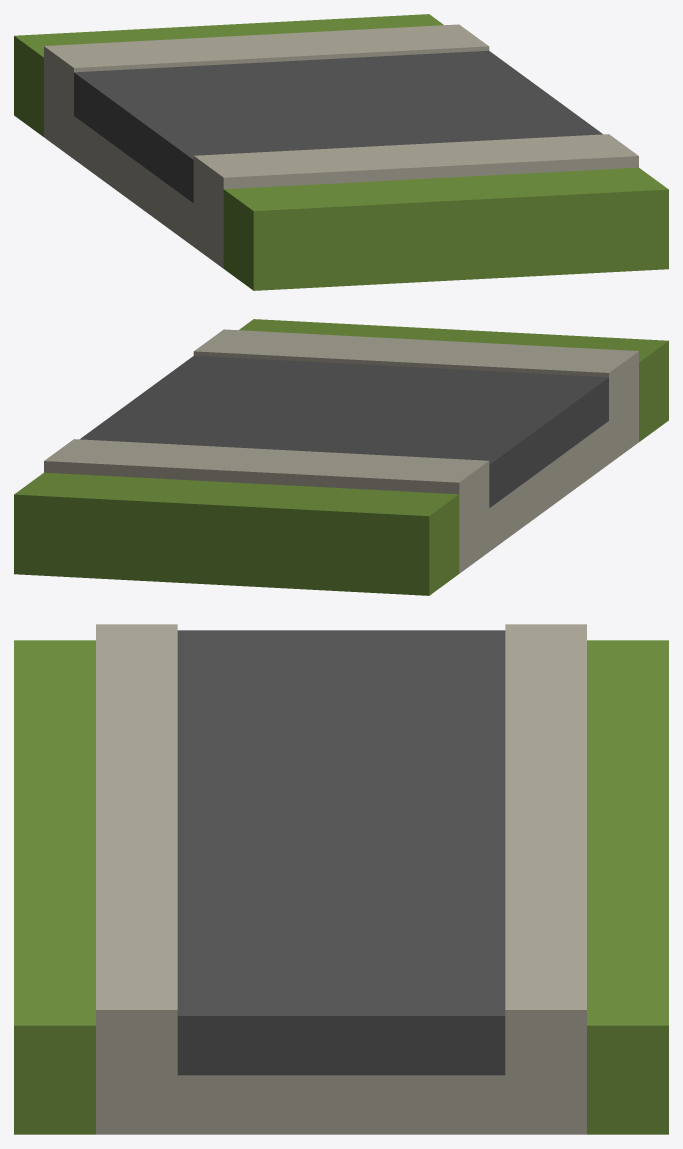
File: roadTile_183.obj
The picture shows the model from 3 angles, top to bottom: view 1: azimuth 30°, elevation 25°; view 2: azimuth 150°, elevation 25°; view 3: azimuth 270°, elevation 25°; orthographic projection. The views are drawn at different scales.
Visible parts, largest first — view 1: Mesh1_Group1_Model.109; view 2: Mesh1_Group1_Model.109; view 3: Mesh1_Group1_Model.109.
Boxes of the visible parts, x1,y1,x2,y2 form: Mesh1_Group1_Model.109: (14,14,668,290); Mesh1_Group1_Model.109: (14,319,668,595); Mesh1_Group1_Model.109: (14,624,668,1134).
Size of the model in its own units: 3 by 1.18 by 3.
